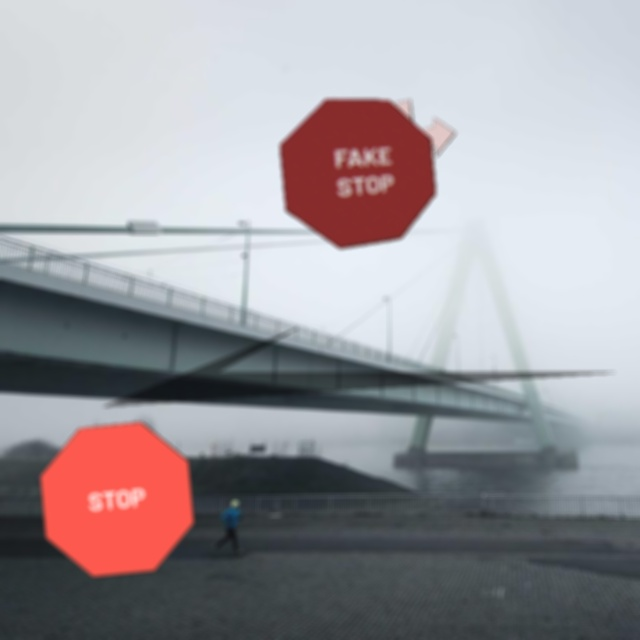DO_NOT_GO_AROUND: (299, 99, 456, 196)
FAKE_STOP: (279, 98, 436, 249)
STOP: (39, 421, 195, 578)
